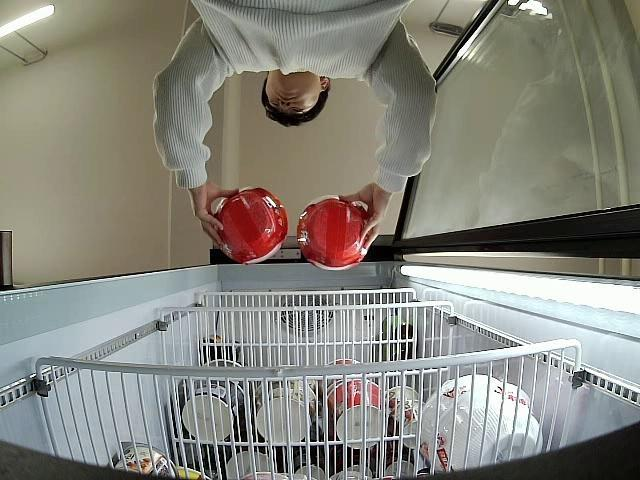10_wangTtukkeong: (216, 188, 288, 263), (297, 196, 372, 268)
